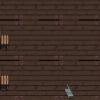Obstacle: (0, 68, 15, 94), (0, 28, 14, 52)
Win: (58, 80, 78, 100)
